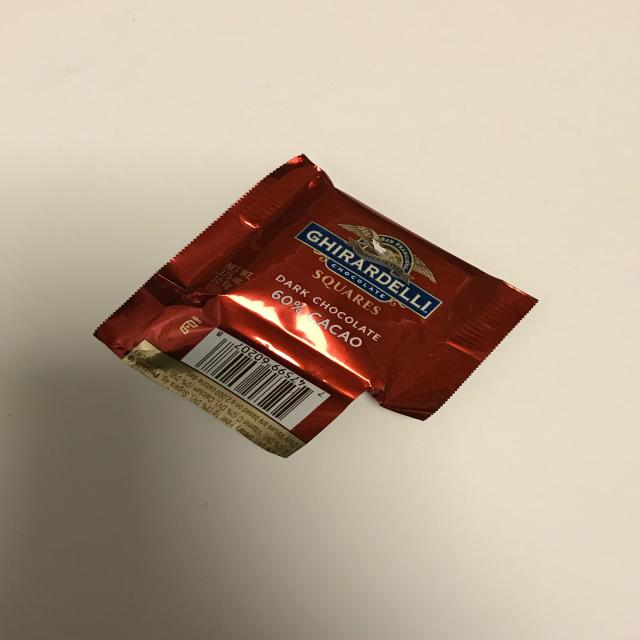Plastic: (77, 152, 568, 492)
